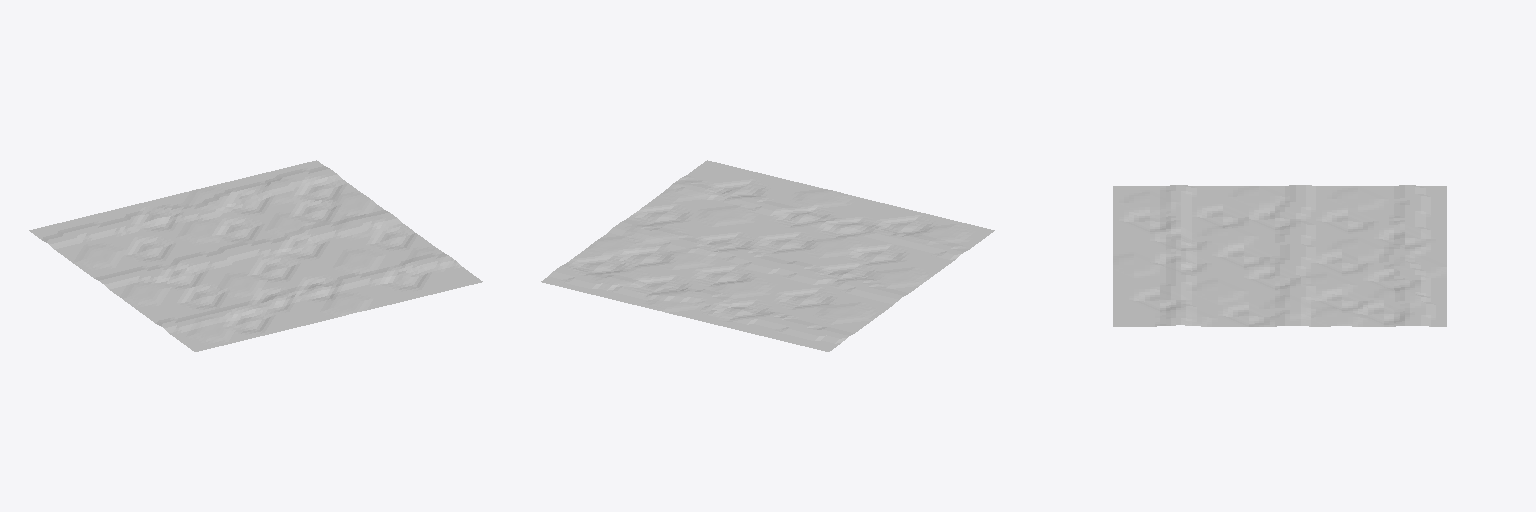
File: lake6.obj
3 renders of one model, left to right at view 1: azimuth 30°, elevation 25°; view 2: azimuth 150°, elevation 25°; view 3: azimuth 270°, elevation 25°, orthographic.
Visible parts, largest first — view 1: lake.006; view 2: lake.006; view 3: lake.006.
Part boxes in pixels (bbox=[...]): lake.006: bbox=[29, 160, 482, 351]; lake.006: bbox=[541, 160, 994, 351]; lake.006: bbox=[1113, 185, 1446, 326].
Bounding box in the file's own units: 332 × 3.4 × 332.